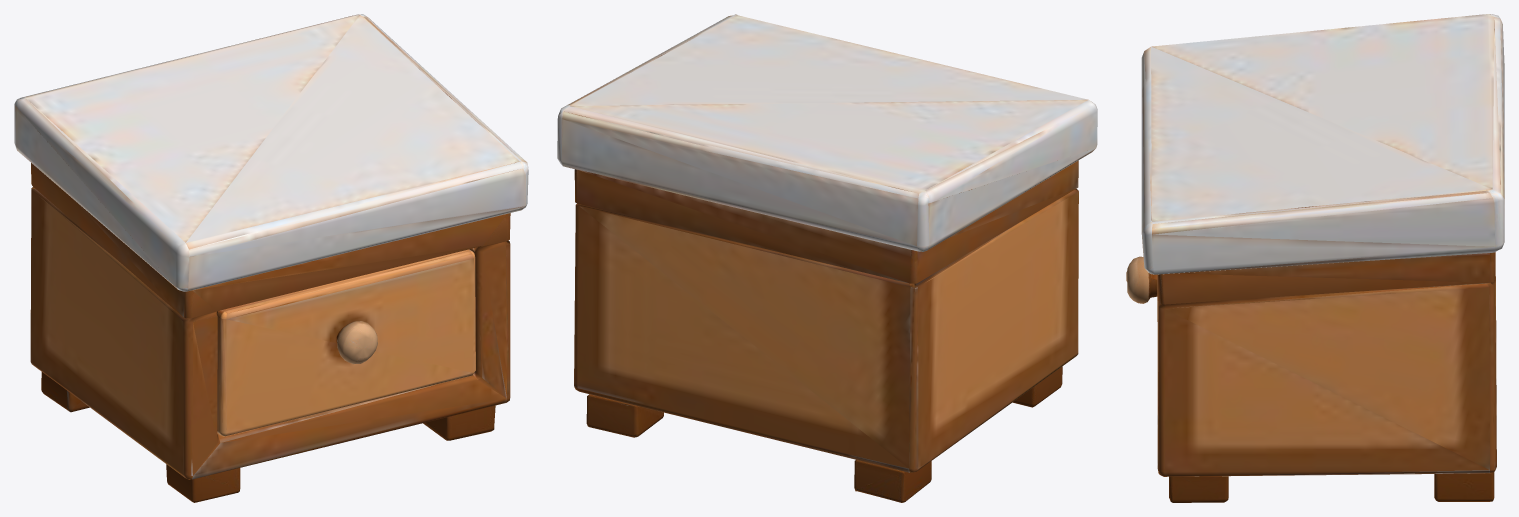
File: counter.glb
3 views of the same model, side by side, from view 1: azimuth 30°, elevation 25°; view 2: azimuth 150°, elevation 25°; view 3: azimuth 270°, elevation 25° (orthographic). The views are drawn at different scales.
Size of the model in its own units: 1 by 0.8223 by 0.8711.
1 material, 1 textured.
